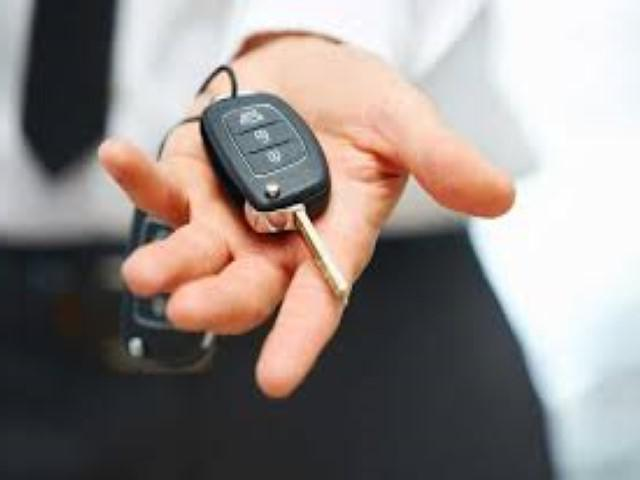key: (201, 89, 357, 357)
